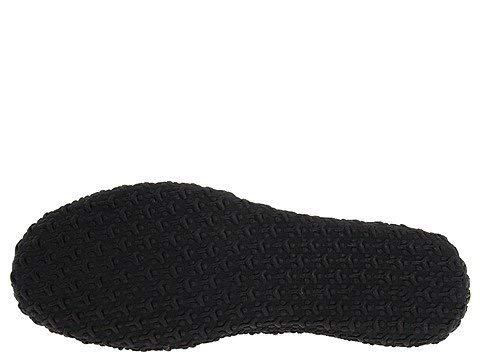circle: (58, 204, 431, 315)
other: (58, 204, 431, 315)
